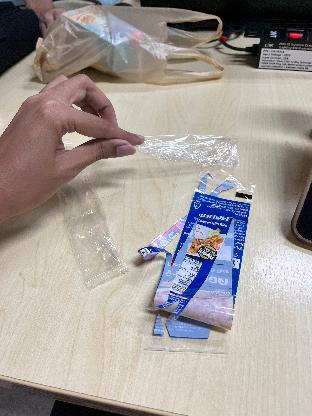Others: (142, 183, 262, 361), (62, 192, 130, 288), (115, 124, 241, 172)
